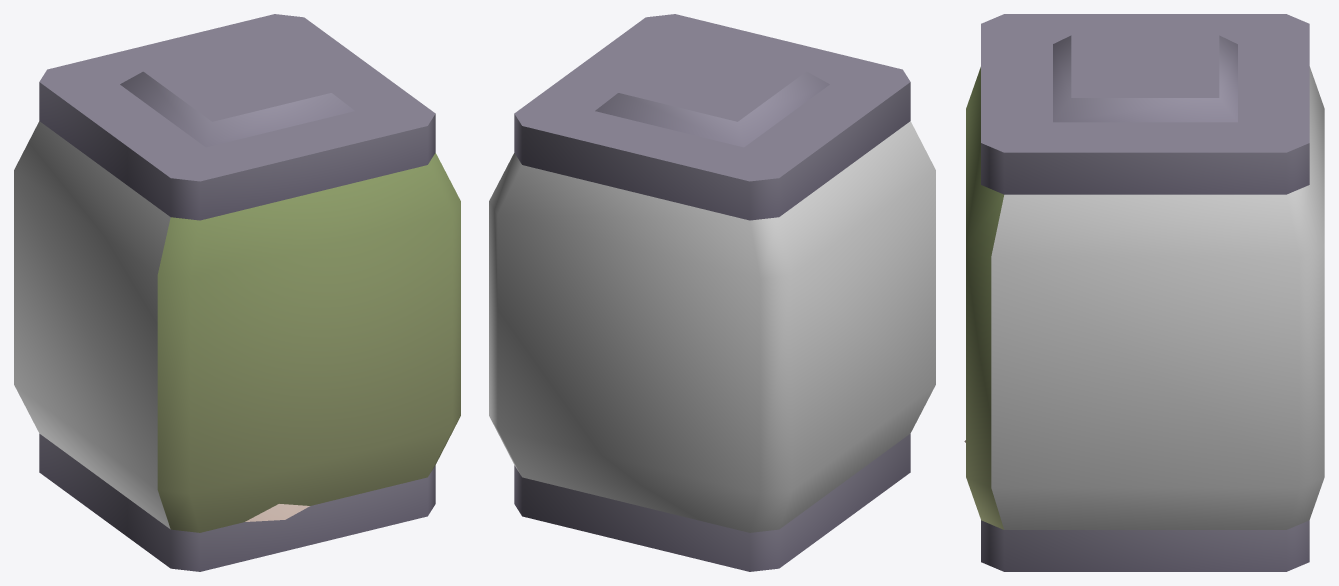
File: terrarium-frog.glb
3 renders of one model, left to right at view 1: azimuth 30°, elevation 25°; view 2: azimuth 150°, elevation 25°; view 3: azimuth 270°, elevation 25°, orthographic. The views are drawn at different scales.
Parts seen in each view (by area): view 1: terrarium-frog; view 2: terrarium-frog; view 3: terrarium-frog.
Part boxes in pixels (bbox=[...]): terrarium-frog: bbox=[14, 14, 460, 571]; terrarium-frog: bbox=[489, 14, 935, 571]; terrarium-frog: bbox=[964, 14, 1324, 571].
Size of the model in its own units: 0.4063 by 0.52 by 0.3897.
